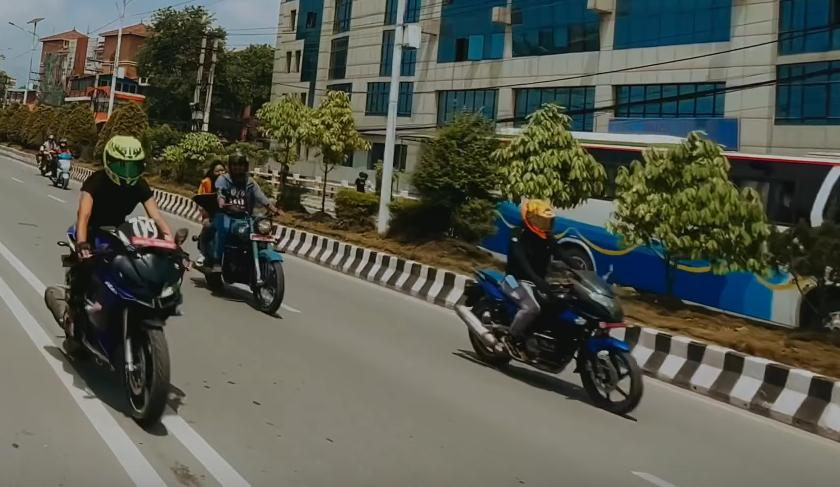bike: (41, 206, 190, 437), (450, 260, 644, 418), (185, 199, 292, 321)
